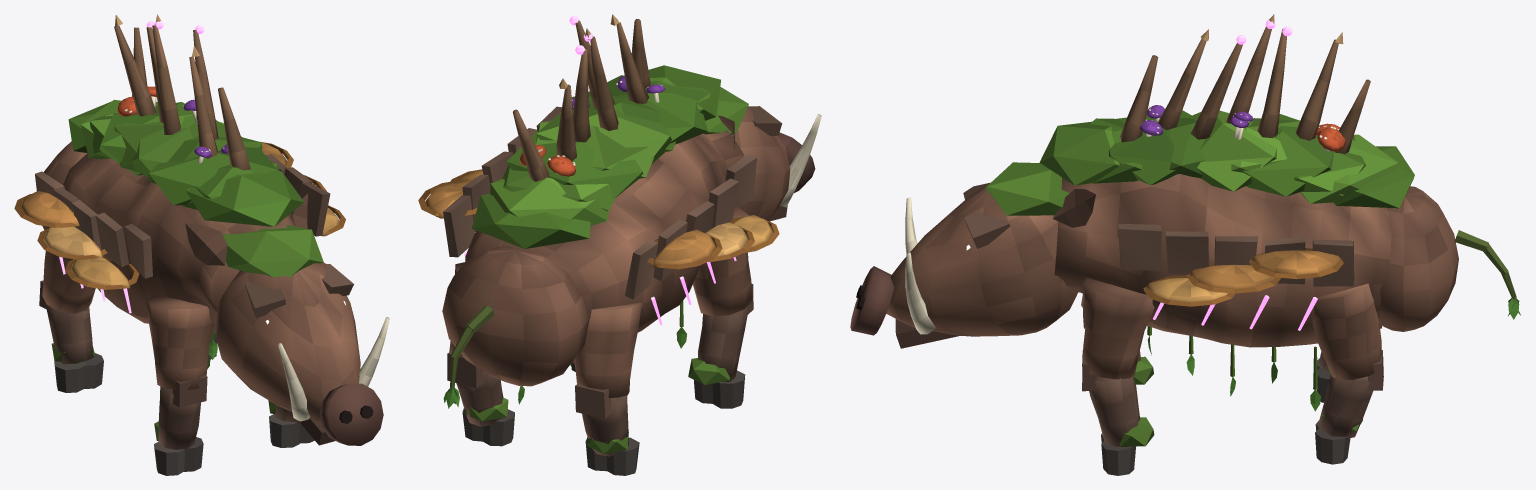
File: rotboar.glb
The picture shows the model from 3 angles, left to right: view 1: azimuth 30°, elevation 25°; view 2: azimuth 150°, elevation 25°; view 3: azimuth 270°, elevation 25°; orthographic projection. The views are drawn at different scales.
Parts seen in each view (by area): view 1: Body.006, Head.001, LegFL.001, LegBL.001, LegFR.001; view 2: Body.006, LegBL.001, LegFL.001, Head.001, LegBR.001, Tail.001; view 3: Body.006, Head.001, LegFR.001, LegBR.001, Tail.001.
Boxes of the visible parts, x1,y1,x2,y2 form: Body.006: (14, 14, 345, 368); Head.001: (185, 193, 389, 445); LegFL.001: (147, 295, 214, 475); LegBL.001: (39, 226, 103, 392); LegFR.001: (268, 400, 314, 447); Body.006: (418, 14, 779, 404); LegBL.001: (574, 302, 641, 475); LegFL.001: (688, 207, 753, 408); Head.001: (703, 87, 821, 221); LegBR.001: (447, 262, 514, 446); Tail.001: (443, 305, 494, 408); Body.006: (1039, 14, 1458, 411); Head.001: (850, 162, 1095, 348); LegFR.001: (1082, 277, 1154, 475); LegBR.001: (1312, 283, 1383, 464); Tail.001: (1454, 230, 1520, 319).
Size of the model in its own units: 1.44 by 1.94 by 2.82.
